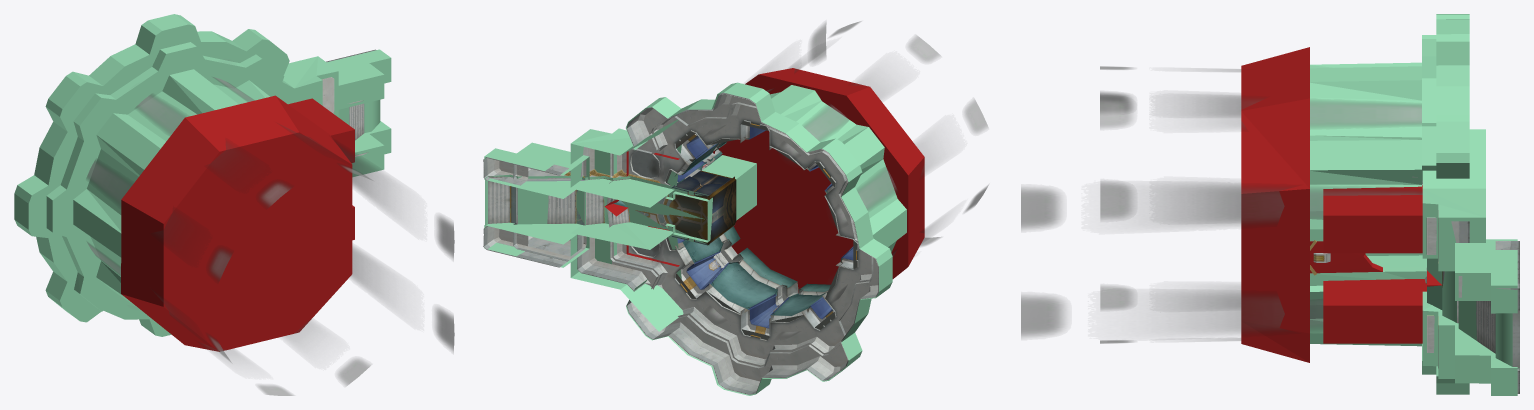
The picture shows the model from 3 angles, left to right: view 1: azimuth 30°, elevation 25°; view 2: azimuth 150°, elevation 25°; view 3: azimuth 270°, elevation 25°; orthographic projection. The views are drawn at different scales.
Parts seen in each view (by area): view 1: object0038_Object01, "object0034_Editable Mesh", object0063_PolyMesh, object0075_PolyMesh, object0071_PolyMesh, "object0051_Editable Poly", object0087_PolyMesh, object0042_floor1, object0079_PolyMesh, object0083_PolyMesh, object0005_UA104-1:0, object0067_PolyMesh (+1 smaller); view 2: "object0034_Editable Mesh", object0038_Object01, object0011_UA104-1:1, object0005_UA104-1:0, object0016_UA104-2:0, object0042_floor1, object0028_UA104-s:2, object0021_UA104-2:1, object0075_PolyMesh, object0071_PolyMesh, object0026_UA104-s:1, object0063_PolyMesh (+1 smaller); view 3: "object0034_Editable Mesh", object0038_Object01, object0063_PolyMesh, "object0051_Editable Poly", object0067_PolyMesh, object0042_floor1, object0079_PolyMesh, object0028_UA104-s:2, object0083_PolyMesh, object0075_PolyMesh, object0005_UA104-1:0, object0011_UA104-1:1.
Part boxes in pixels (x1,y1,x2,y2): object0038_Object01: (121,95,354,351); "object0034_Editable Mesh": (14,14,391,336); object0063_PolyMesh: (334,141,454,259); object0075_PolyMesh: (86,159,232,281); object0071_PolyMesh: (136,94,292,207); "object0051_Editable Poly": (350,246,454,352); object0087_PolyMesh: (283,320,370,385); object0042_floor1: (338,100,380,133); object0079_PolyMesh: (87,242,230,361); object0083_PolyMesh: (201,343,293,395); object0005_UA104-1:0: (322,49,376,156); object0067_PolyMesh: (213,77,372,180); "object0034_Editable Mesh": (484,82,906,395); object0038_Object01: (604,68,924,292); object0011_UA104-1:1: (610,102,873,368); object0005_UA104-1:0: (483,92,878,394); object0016_UA104-2:0: (664,120,858,340); object0042_floor1: (485,174,709,245); object0028_UA104-s:2: (485,176,612,228); object0021_UA104-2:1: (630,150,736,257); object0075_PolyMesh: (832,99,987,226); object0071_PolyMesh: (780,35,940,158); object0026_UA104-s:1: (607,178,709,244); object0063_PolyMesh: (655,22,826,175); "object0034_Editable Mesh": (1310,14,1517,395); object0038_Object01: (1241,47,1441,362); object0063_PolyMesh: (1021,185,1422,230); "object0051_Editable Poly": (1021,293,1323,337); object0067_PolyMesh: (1100,97,1421,128); object0042_floor1: (1427,258,1519,368); object0079_PolyMesh: (1100,181,1240,219); object0028_UA104-s:2: (1442,271,1519,368); object0083_PolyMesh: (1100,284,1240,309); object0075_PolyMesh: (1100,91,1240,114); object0005_UA104-1:0: (1426,210,1519,393); object0011_UA104-1:1: (1424,217,1436,352).
Size of the model in its own units: 116 by 87.58 by 111.
